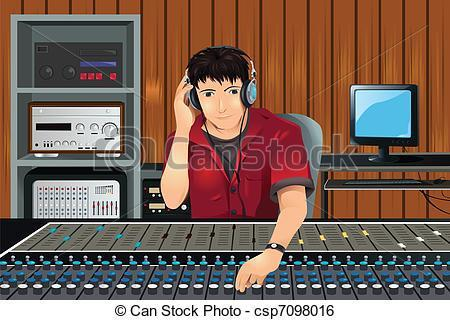person: (156, 46, 310, 290)
tvmonitor: (349, 83, 419, 163)
